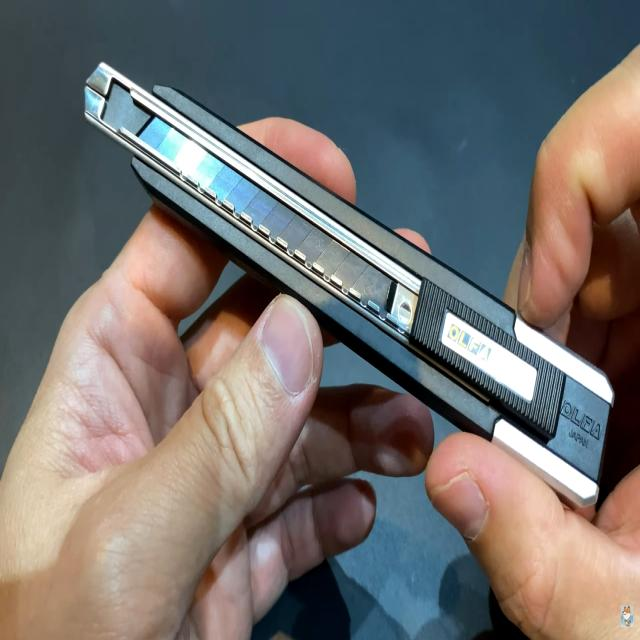cutter: (64, 35, 640, 640)
